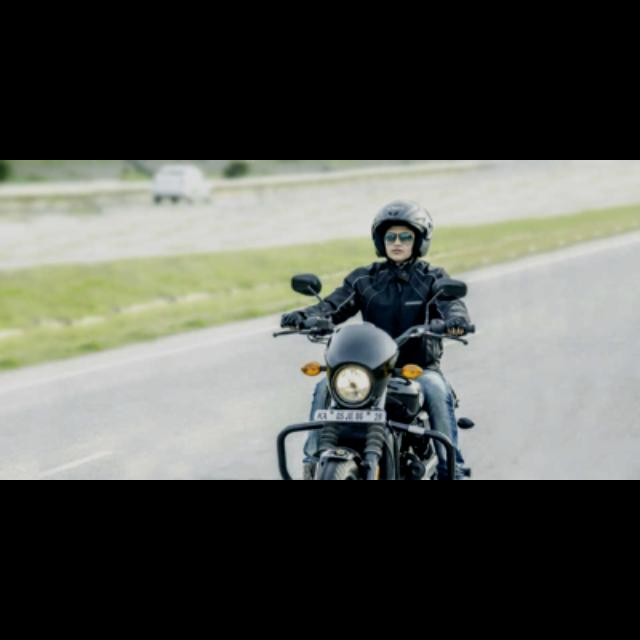With Helmet: (368, 197, 436, 266)
